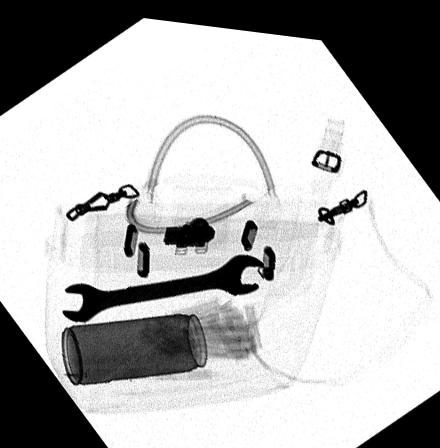Wrench: (58, 244, 267, 320)
